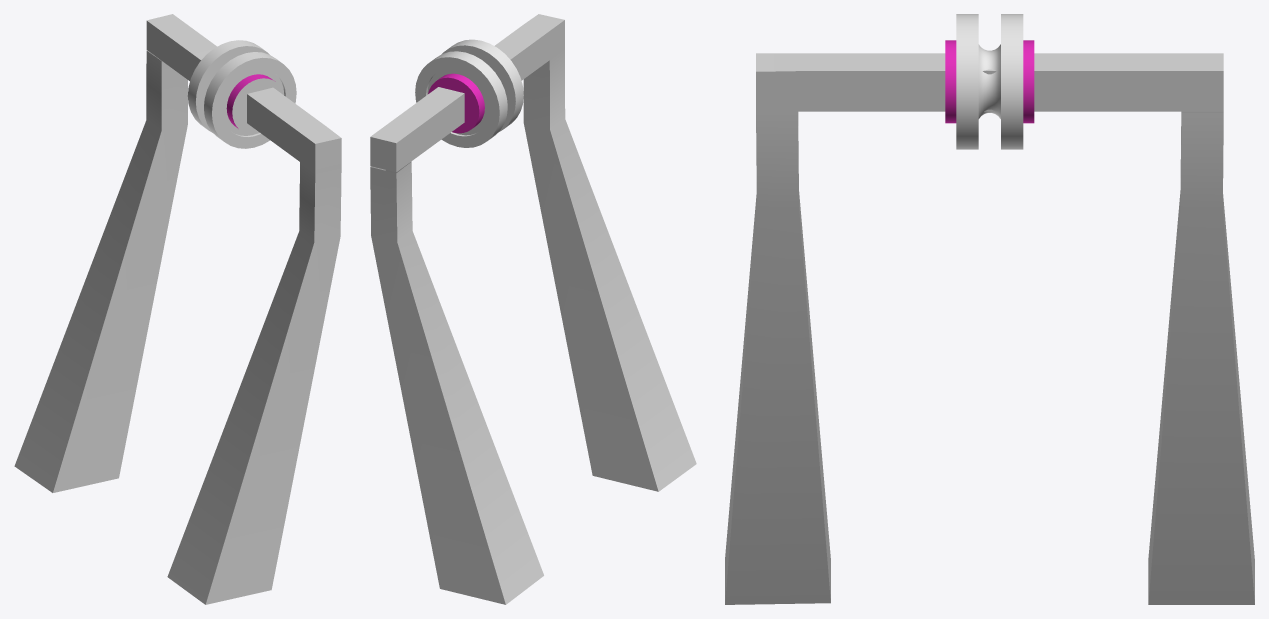
The model's file is makaradeneme.fbx.
3 renders of one model, left to right at view 1: azimuth 30°, elevation 25°; view 2: azimuth 150°, elevation 25°; view 3: azimuth 270°, elevation 25°, orthographic. The views are drawn at different scales.
Visible parts, largest first — view 1: Plane.010, Plane.011; view 2: Plane.010, Plane.011; view 3: Plane.010, Plane.011.
Part boxes in pixels (x1,y1,x2,y2): Plane.010: [14, 14, 341, 604]; Plane.011: [187, 40, 296, 148]; Plane.010: [370, 14, 696, 604]; Plane.011: [415, 39, 523, 147]; Plane.010: [725, 53, 1254, 604]; Plane.011: [945, 14, 1034, 149].
Bounding box in the file's own units: 375 × 932 × 711.
